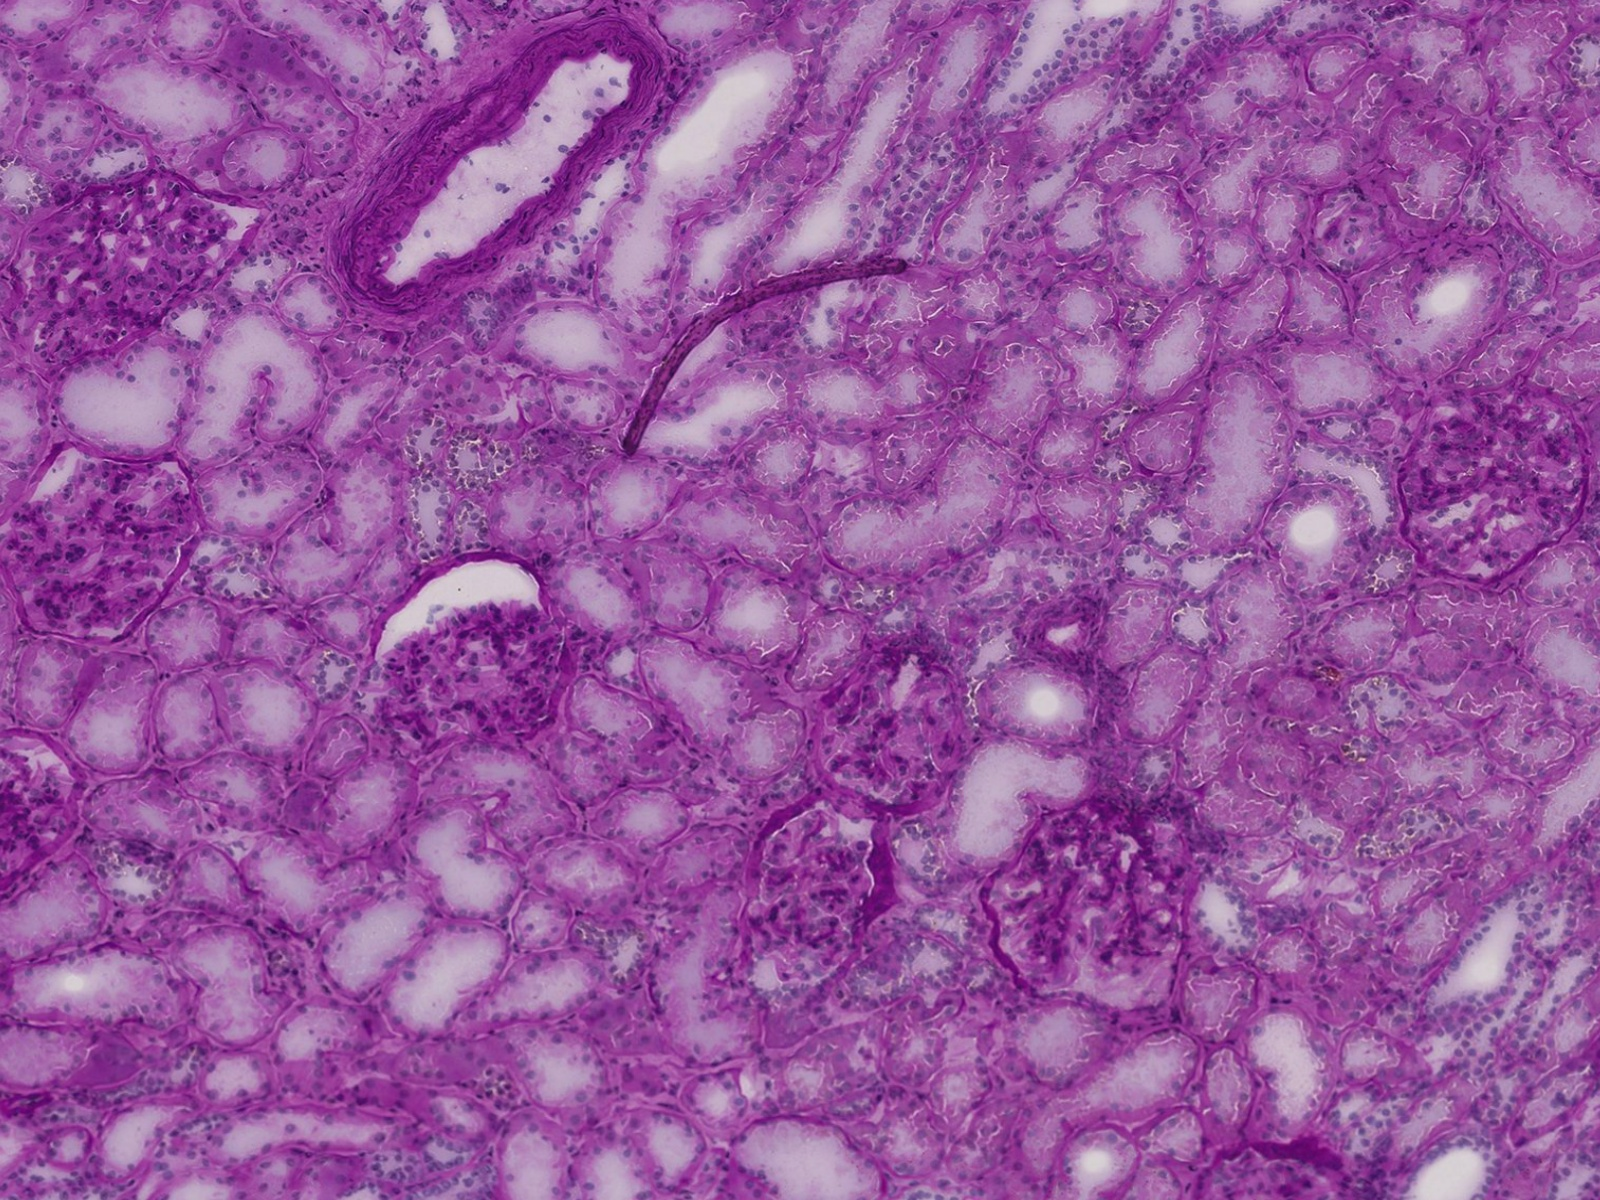Glomeruli: (8, 161, 251, 345), (8, 435, 212, 649), (1395, 376, 1586, 585), (362, 596, 571, 744), (810, 626, 976, 811), (733, 799, 889, 984), (8, 720, 66, 908), (1183, 1145, 1362, 1191)
